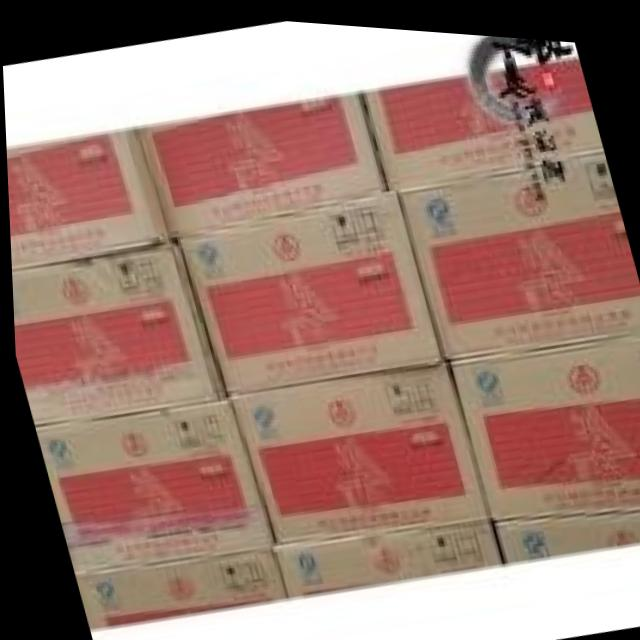box: (175, 186, 441, 388), (393, 144, 640, 353), (225, 355, 483, 538), (31, 393, 267, 571), (9, 242, 219, 424), (135, 88, 382, 238), (447, 329, 640, 513), (362, 49, 603, 185), (5, 127, 167, 268), (69, 545, 278, 628), (270, 516, 497, 591), (489, 500, 640, 555)
